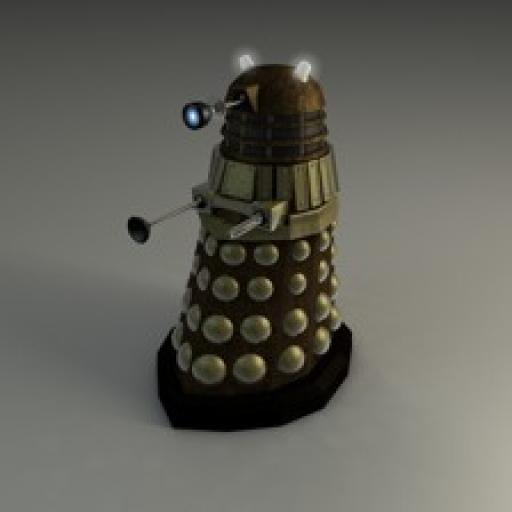dalek: (115, 41, 372, 430)
